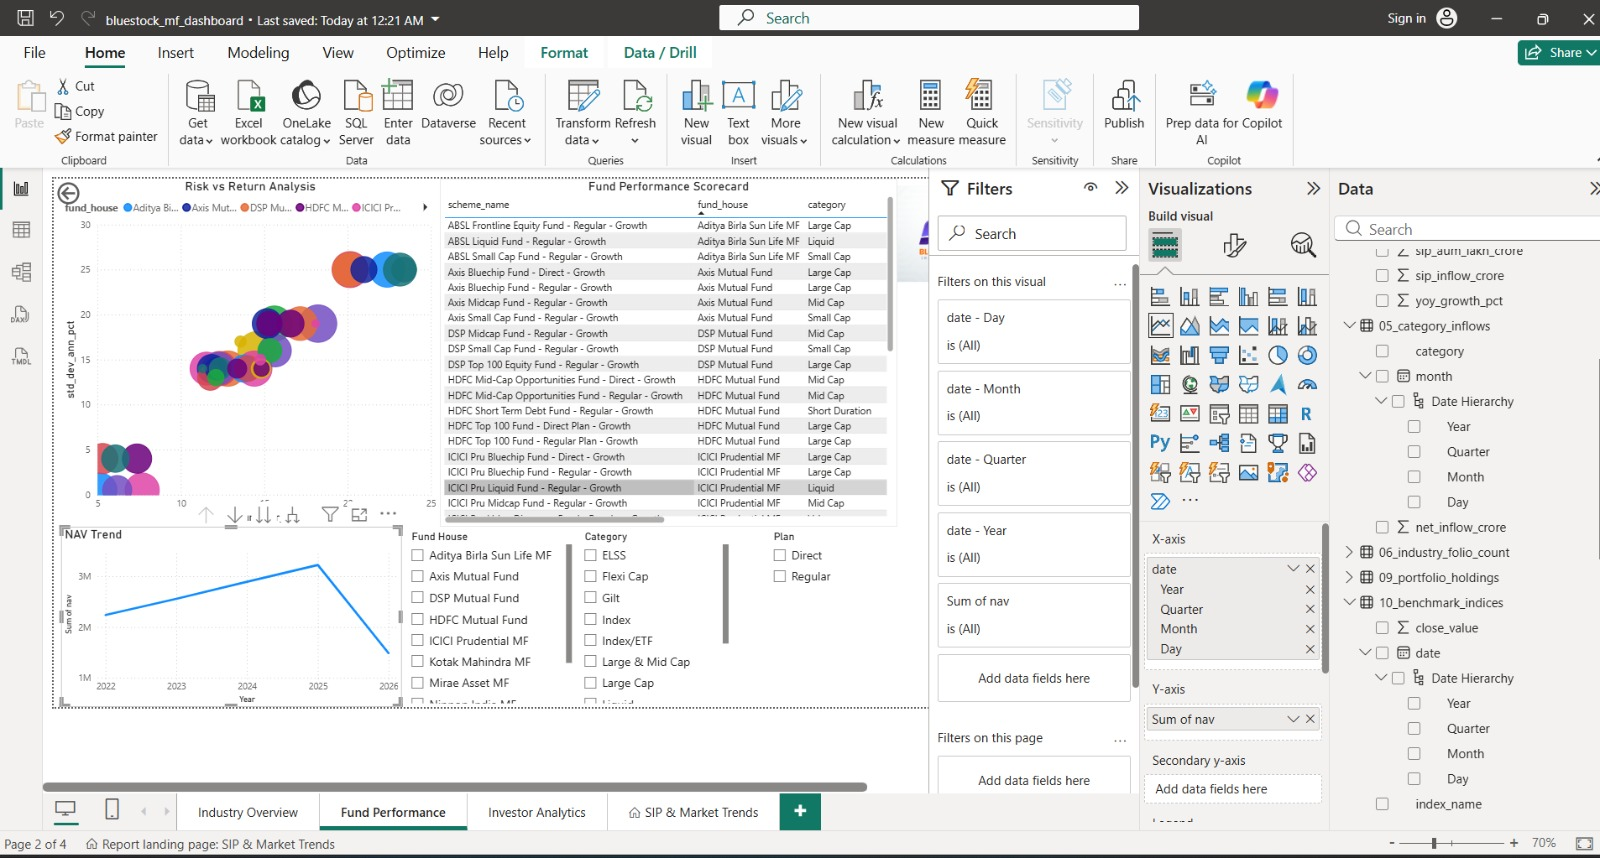

What the dashboard file says about the page in this screenshot:
{"tool":"powerbi","page":{"name":"Fund Performance","canvas":[1280,720],"ordinal":1},"visuals":[{"type":"scatterChart","title":"Risk vs Return Analysis","fields":{"X":["clean_scheme_performance.return_3yr_pct"],"Y":["clean_scheme_performance.std_dev_ann_pct"],"Size":["Sum(clean_scheme_performance.aum_crore)"],"Series":["clean_scheme_performance.fund_house"]},"box":[10,0,515.7,474.3],"z":0},{"type":"tableEx","title":"Fund Performance Scorecard","fields":{"Values":["clean_scheme_performance.scheme_name","clean_scheme_performance.fund_house","clean_scheme_performance.category","clean_scheme_performance.return_3yr_pct","clean_scheme_performance.std_dev_ann_pct","clean_scheme_performance.sharpe_ratio","clean_scheme_performance.sortino_ratio","clean_scheme_performance.expense_ratio_pct","clean_scheme_performance.morningstar_rating"]},"box":[525.7,0,622.9,474.3],"z":1000},{"type":"lineChart","title":"NAV Trend","fields":{"Category":["clean_nav_history.date.Variation.Date Hierarchy.Year","clean_nav_history.date.Variation.Date Hierarchy.Quarter","clean_nav_history.date.Variation.Date Hierarchy.Month","clean_nav_history.date.Variation.Date Hierarchy.Day"],"Y":["Sum(clean_nav_history.nav)"]},"box":[10,474,464,246],"z":2000},{"type":"actionButton","box":[0,0,100,40],"z":3000},{"type":"slicer","fields":{"Values":["clean_scheme_performance.fund_house"]},"box":[474,474,236,246],"z":4000},{"type":"slicer","fields":{"Values":["clean_scheme_performance.category"]},"box":[710,474,214,246],"z":5000},{"type":"slicer","fields":{"Values":["clean_scheme_performance.plan"]},"box":[967,474,214,246],"z":6000},{"type":"image","box":[1148.6,0,131.4,150],"z":6001}]}

Visuals, with their boxes on the page's 1280x720 design canvas (x1, y1, x2, y2). These are canvas units, not pixel positions in the 1600x858 screenshot, which may show the page scaled, cropped or inside an application window:
"Risk vs Return Analysis" scatterChart: Rect(10, 0, 526, 474)
"Fund Performance Scorecard" tableEx: Rect(526, 0, 1149, 474)
"NAV Trend" lineChart: Rect(10, 474, 474, 720)
actionButton: Rect(0, 0, 100, 40)
slicer - clean_scheme_performance.fund_house: Rect(474, 474, 710, 720)
slicer - clean_scheme_performance.category: Rect(710, 474, 924, 720)
slicer - clean_scheme_performance.plan: Rect(967, 474, 1181, 720)
image: Rect(1149, 0, 1280, 150)
